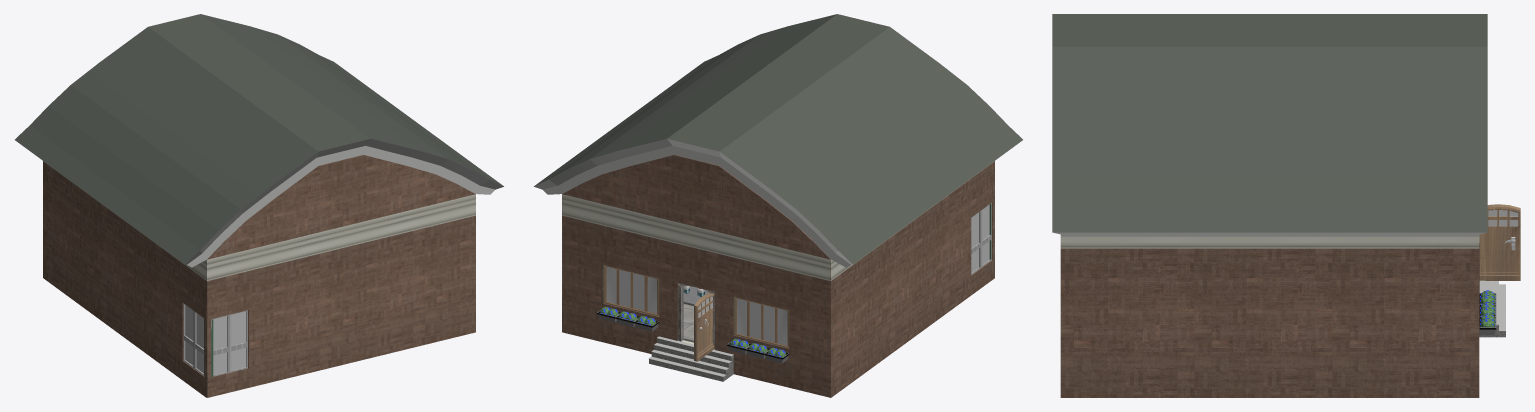
The model's file is 薰香店.fbx.
3 views of the same model, side by side, from view 1: azimuth 30°, elevation 25°; view 2: azimuth 150°, elevation 25°; view 3: azimuth 270°, elevation 25° (orthographic). The views are drawn at different scales.
Visible parts, largest first — view 1: 外, 薰香店屋頂, 窗戶20_1, 窗戶20; view 2: 薰香店屋頂, 外, 窗戶11, 窗戶11_1, 門6, 窗戶20, 樓梯_3, 樓梯, 樓梯_1, 門6外框; view 3: 薰香店屋頂, 外, 門6.
Part boxes in pixels (x1,y1,x2,y2): 外: (43, 155, 475, 397); 薰香店屋頂: (14, 14, 503, 267); 窗戶20_1: (211, 310, 247, 376); 窗戶20: (183, 303, 204, 375); 薰香店屋頂: (534, 14, 1022, 267); 外: (562, 155, 994, 397); 窗戶11: (604, 265, 659, 316); 窗戶11_1: (734, 296, 789, 348); 門6: (694, 293, 714, 361); 窗戶20: (971, 203, 991, 274); 樓梯_3: (704, 350, 733, 381); 樓梯: (648, 336, 677, 368); 樓梯_1: (667, 340, 693, 372); 門6外框: (678, 283, 714, 349); 薰香店屋頂: (1052, 14, 1487, 236); 外: (1060, 234, 1479, 397); 門6: (1479, 204, 1520, 280).
Size of the model in its own units: 1718 by 1142 by 1707.
